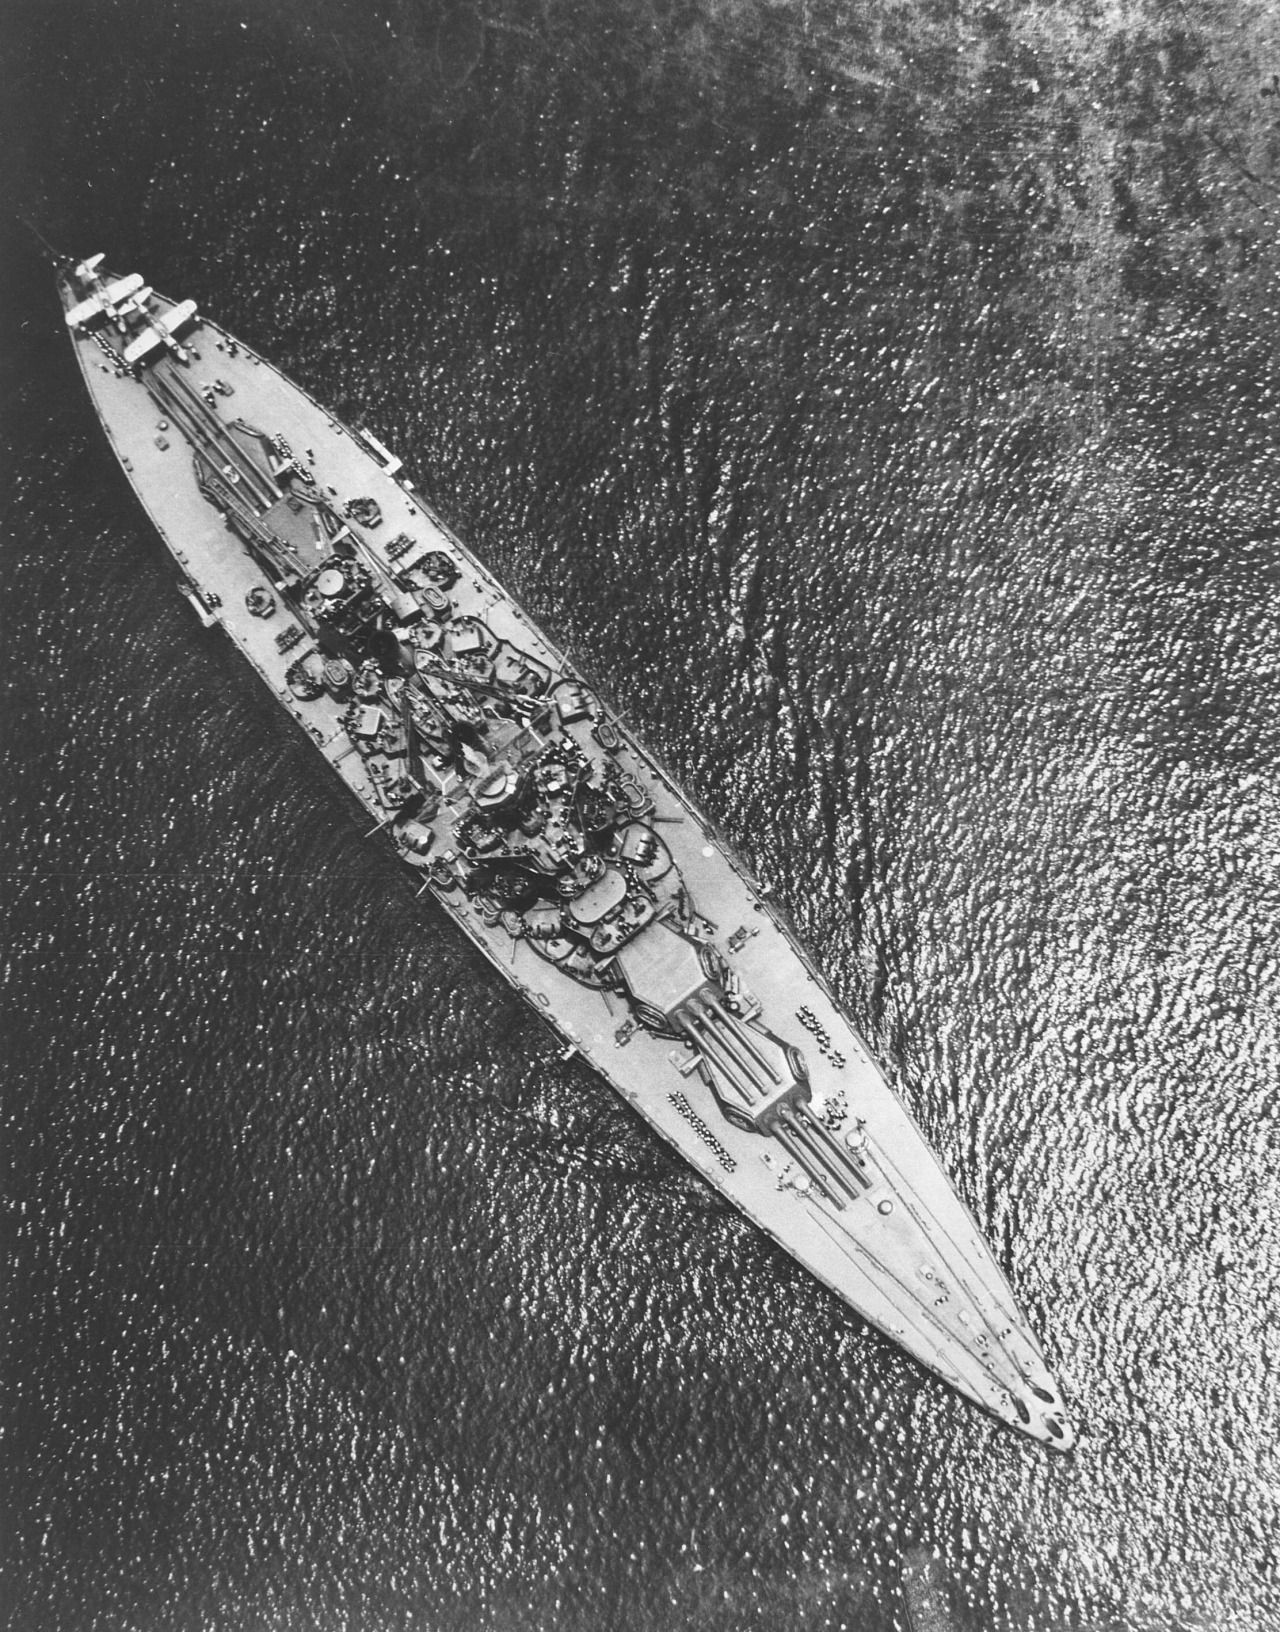ship: (34, 238, 1094, 1564)
